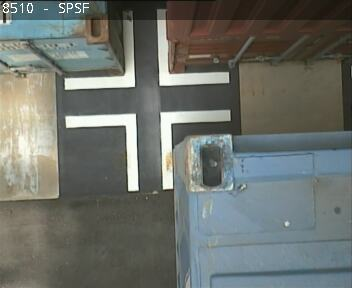groundmarker_1: (66, 110, 229, 191), (65, 9, 228, 90)
